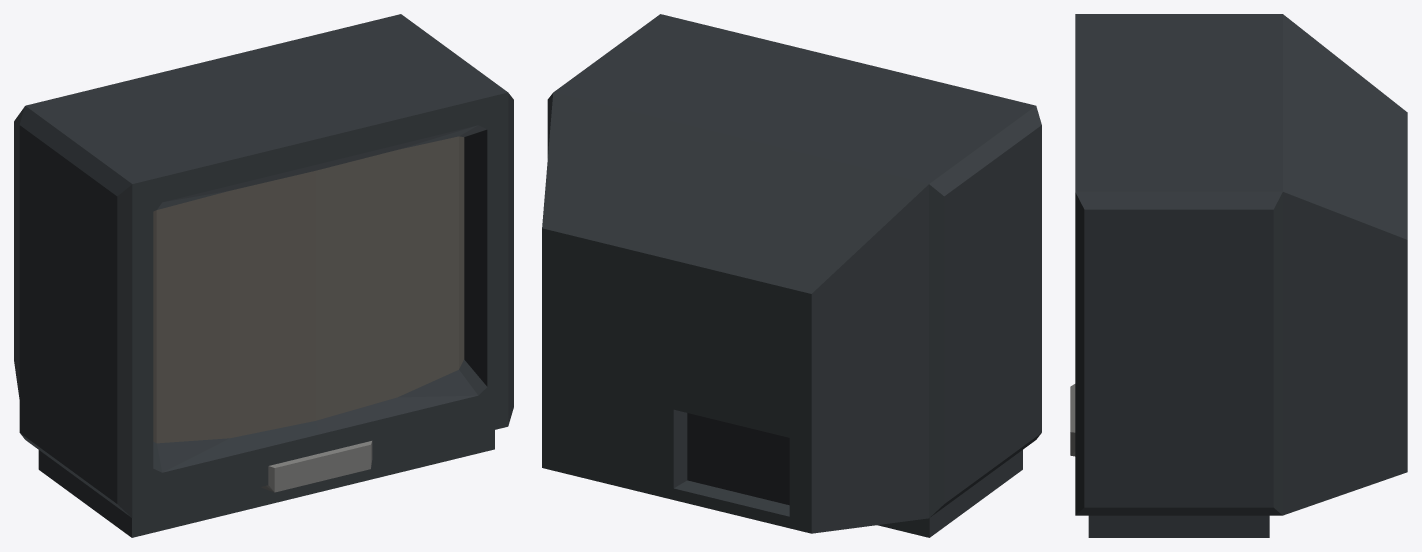
Rendered from SM_Prop_TV_01.fbx.
The picture shows the model from 3 angles, left to right: view 1: azimuth 30°, elevation 25°; view 2: azimuth 150°, elevation 25°; view 3: azimuth 270°, elevation 25°; orthographic projection. The views are drawn at different scales.
Visible parts, largest first — view 1: SM_Prop_TV_01; view 2: SM_Prop_TV_01; view 3: SM_Prop_TV_01.
Boxes of the visible parts, x1,y1,x2,y2 form: SM_Prop_TV_01: (14, 14, 513, 537); SM_Prop_TV_01: (542, 14, 1041, 537); SM_Prop_TV_01: (1070, 14, 1407, 537).
Bounding box in the file's own units: 67.16 × 58.32 × 51.04.
